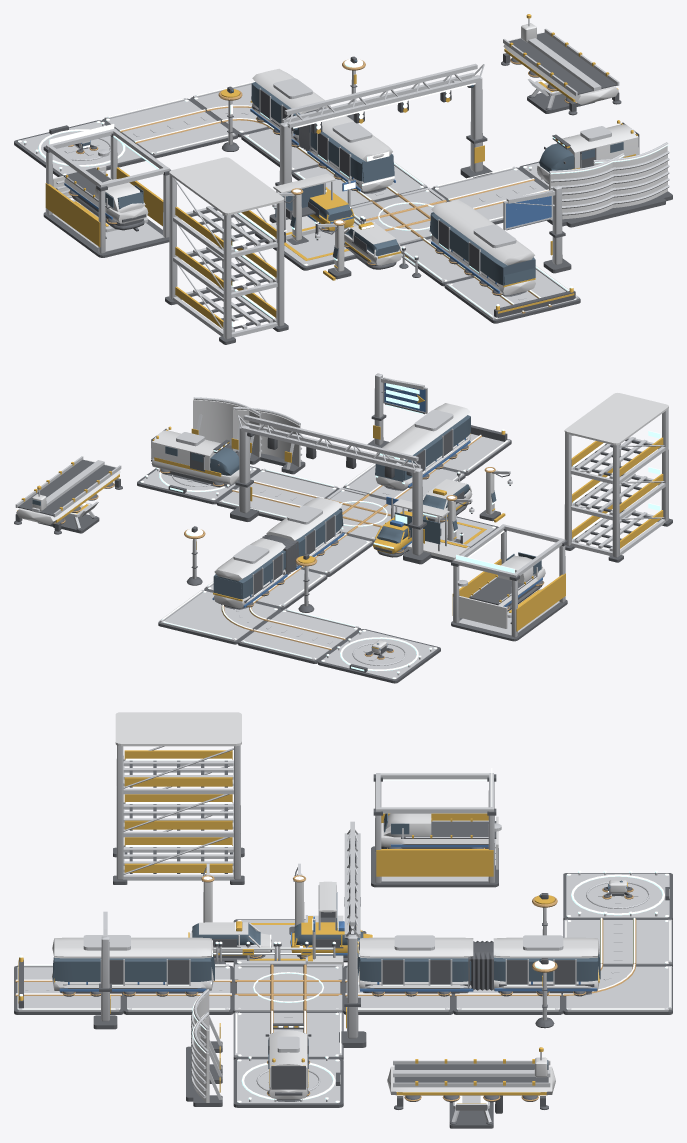
File: hover-transit-and-antigrav-fleet-transit-ff43ce0a-starter-scene__17133.glb
The picture shows the model from 3 angles, top to bottom: view 1: azimuth 30°, elevation 25°; view 2: azimuth 150°, elevation 25°; view 3: azimuth 270°, elevation 25°; orthographic projection. The views are drawn at different scales.
Visible parts, largest first — view 1: 030-parking-stack-frame/1, 026-air-traffic-gantry/1, 013-service-bay-lift/1, 009-repulsor-road-plate/1, 030-parking-stack-frame/4, 016-articulated-transit-bus/0, 015-transit-shuttle-bus/0, 005-repulsor-road-plate/1, 002-repulsor-road-plate-cross/1, 012-heavy-freight-sled/1, 030-parking-stack-frame/3, 013-service-bay-lift/3 (+43 smaller); view 2: 030-parking-stack-frame/1, 026-air-traffic-gantry/1, 009-repulsor-road-plate/1, 030-parking-stack-frame/4, 013-service-bay-lift/1, 008-repulsor-road-plate-corner/1, 016-articulated-transit-bus/0, 010-landing-pad-tile/1, 005-repulsor-road-plate/1, 015-transit-shuttle-bus/0, 019-hover-ambulance/0, 030-parking-stack-frame/3 (+43 smaller); view 3: 030-parking-stack-frame/1, 030-parking-stack-frame/3, 016-articulated-transit-bus/0, 030-parking-stack-frame/4, 002-repulsor-road-plate-cross/1, 016-articulated-transit-bus/2, 010-landing-pad-tile/1, 015-transit-shuttle-bus/0, 008-repulsor-road-plate-corner/1, 013-service-bay-lift/3, 009-repulsor-road-plate/1, 005-repulsor-road-plate/1 (+39 smaller).
Part boxes in pixels (box(x1,y1,x2,y2)): 030-parking-stack-frame/1: box(169, 175, 284, 339); 026-air-traffic-gantry/1: box(279, 63, 484, 218); 013-service-bay-lift/1: box(45, 128, 169, 253); 009-repulsor-road-plate/1: box(104, 98, 235, 155); 030-parking-stack-frame/4: box(169, 157, 284, 215); 016-articulated-transit-bus/0: box(251, 68, 393, 191); 015-transit-shuttle-bus/0: box(430, 200, 535, 295); 005-repulsor-road-plate/1: box(433, 166, 545, 221); 002-repulsor-road-plate-cross/1: box(351, 187, 445, 244); 012-heavy-freight-sled/1: box(501, 32, 621, 115); 030-parking-stack-frame/3: box(175, 207, 276, 328); 013-service-bay-lift/3: box(45, 167, 163, 247); 030-parking-stack-frame/1: box(564, 409, 668, 557); 026-air-traffic-gantry/1: box(237, 415, 423, 555); 009-repulsor-road-plate/1: box(240, 608, 358, 660); 030-parking-stack-frame/4: box(564, 393, 668, 445); 013-service-bay-lift/1: box(453, 524, 565, 637); 008-repulsor-road-plate-corner/1: box(159, 590, 277, 641); 016-articulated-transit-bus/0: box(213, 497, 342, 608); 010-landing-pad-tile/1: box(321, 630, 437, 679); 005-repulsor-road-plate/1: box(219, 468, 337, 518); 015-transit-shuttle-bus/0: box(376, 403, 470, 489); 019-hover-ambulance/0: box(151, 430, 239, 484); 030-parking-stack-frame/3: box(571, 437, 663, 548); 030-parking-stack-frame/1: box(116, 745, 240, 880); 030-parking-stack-frame/3: box(124, 750, 232, 872); 016-articulated-transit-bus/0: box(358, 937, 599, 990); 030-parking-stack-frame/4: box(115, 712, 241, 746); 002-repulsor-road-plate-cross/1: box(234, 964, 342, 1011); 016-articulated-transit-bus/2: box(363, 941, 594, 996); 010-landing-pad-tile/1: box(566, 872, 669, 917); 015-transit-shuttle-bus/0: box(52, 937, 213, 990); 008-repulsor-road-plate-corner/1: box(566, 966, 671, 1011); 013-service-bay-lift/3: box(376, 813, 493, 876); 009-repulsor-road-plate/1: box(564, 919, 671, 964); 005-repulsor-road-plate/1: box(234, 1012, 342, 1056).
Size of the model in its own units: 36.3 by 8.44 by 36.
